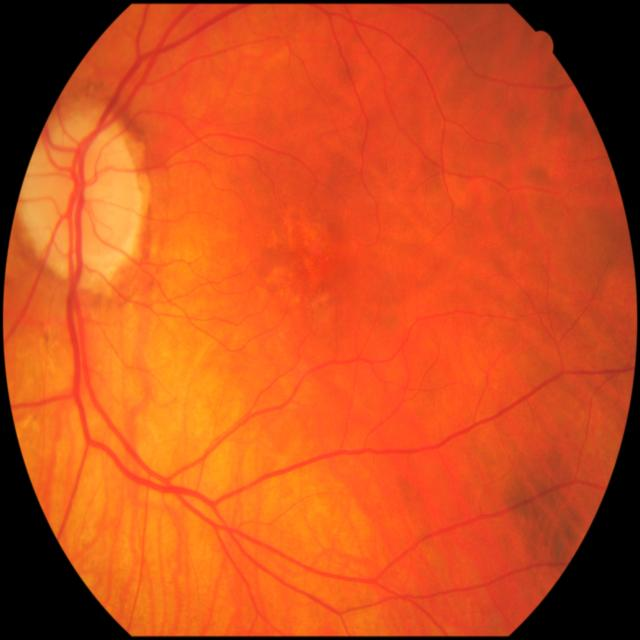OD: (23, 123, 144, 274)
